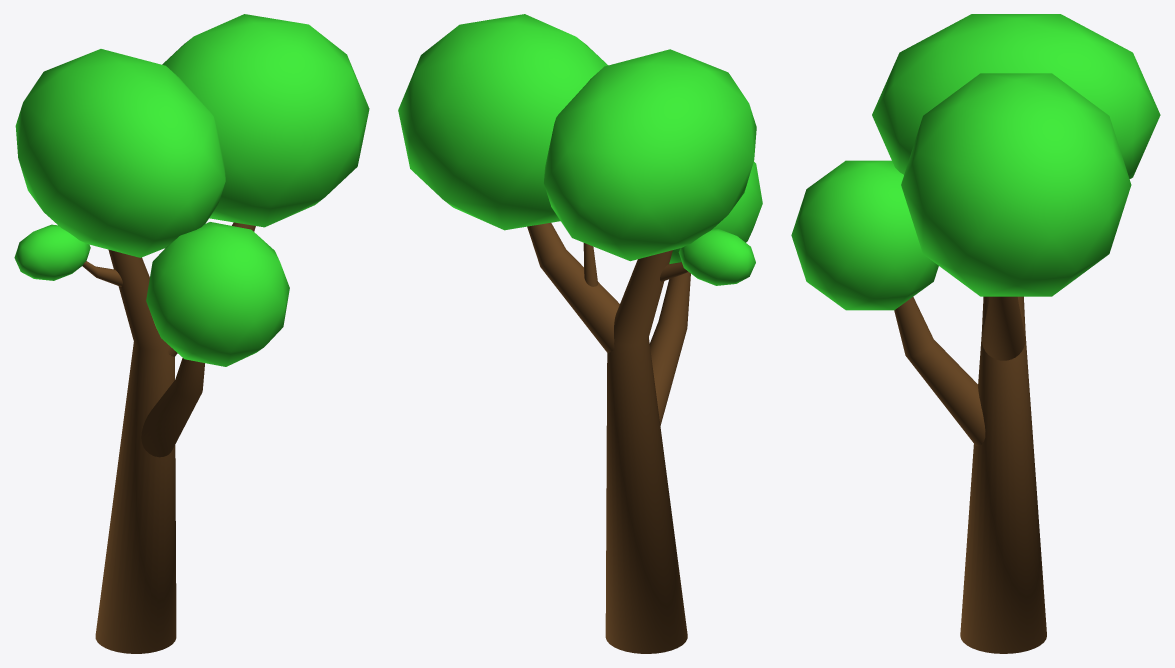
File: Tree 2.fbx
The picture shows the model from 3 angles, left to right: view 1: azimuth 30°, elevation 25°; view 2: azimuth 150°, elevation 25°; view 3: azimuth 270°, elevation 25°; orthographic projection. The views are drawn at different scales.
Visible parts, largest first — view 1: Icosphere.004, Icosphere.001, Cylinder.026, Icosphere.002, Icosphere.003; view 2: Icosphere.004, Cylinder.026, Icosphere.001, Icosphere.003, Icosphere.002; view 3: Icosphere.001, Cylinder.026, Icosphere.004, Icosphere.002.
Boxes of the visible parts, bbox=[...] form: Icosphere.004: bbox=[15, 49, 225, 257]; Icosphere.001: bbox=[162, 14, 369, 227]; Cylinder.026: bbox=[82, 222, 255, 653]; Icosphere.002: bbox=[146, 222, 289, 366]; Icosphere.003: bbox=[14, 224, 90, 280]; Icosphere.004: bbox=[544, 49, 756, 261]; Cylinder.026: bbox=[527, 222, 690, 653]; Icosphere.001: bbox=[398, 14, 608, 230]; Icosphere.003: bbox=[678, 229, 755, 285]; Icosphere.002: bbox=[669, 162, 762, 263]; Icosphere.001: bbox=[901, 73, 1131, 296]; Cylinder.026: bbox=[894, 296, 1046, 653]; Icosphere.004: bbox=[872, 14, 1160, 178]; Icosphere.002: bbox=[791, 160, 938, 310].
Bounding box in the file's own units: 408 × 677 × 366.
